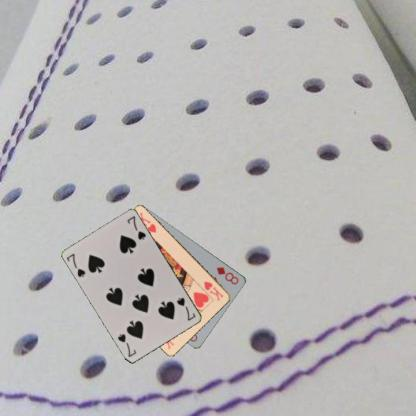7s: (64, 251, 87, 278), (175, 295, 197, 322)
8d: (214, 264, 240, 286)
Kh: (201, 279, 224, 302)
